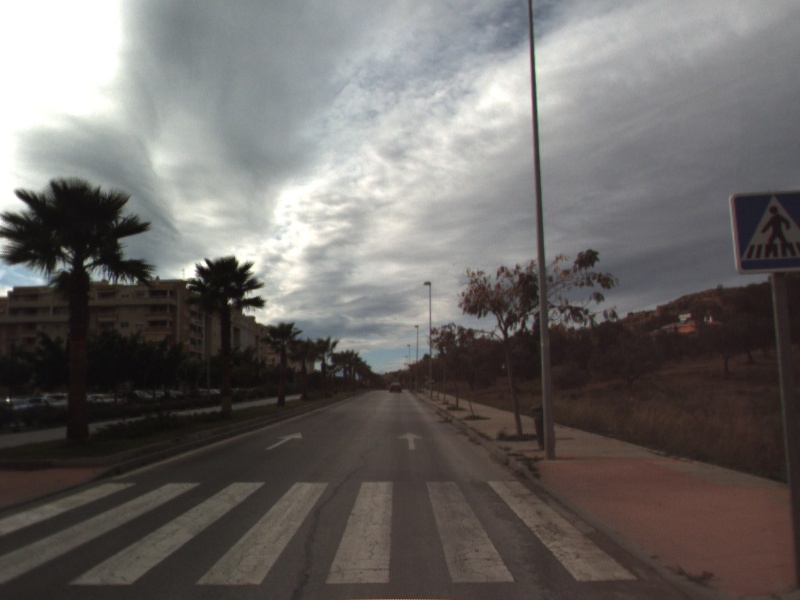STRAIGHT: (263, 431, 305, 452), (396, 430, 425, 452)
